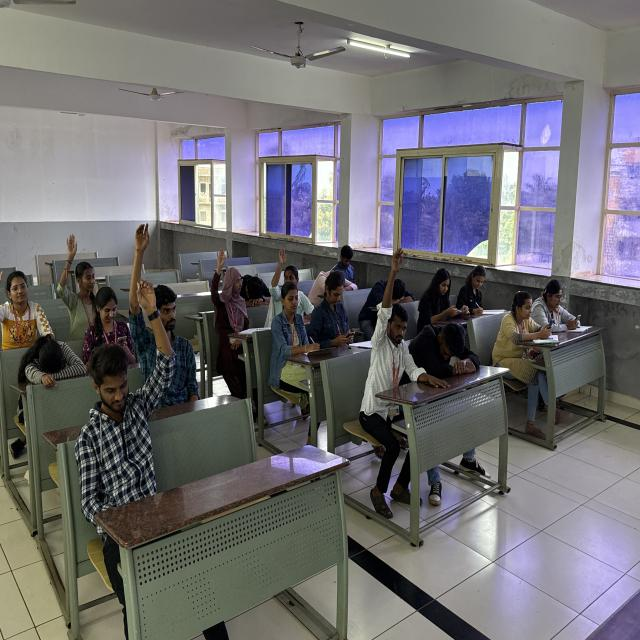Hand Rising: (87, 273, 173, 517), (128, 216, 197, 376), (369, 244, 426, 426), (204, 241, 252, 361), (54, 225, 102, 328), (269, 232, 310, 326)
Sleeping: (9, 332, 93, 414)
Using Phone: (489, 286, 557, 356), (81, 283, 140, 362), (529, 276, 584, 342), (311, 273, 358, 349), (417, 266, 471, 324), (330, 246, 365, 288)
Writing: (264, 279, 336, 393), (457, 261, 505, 329)
